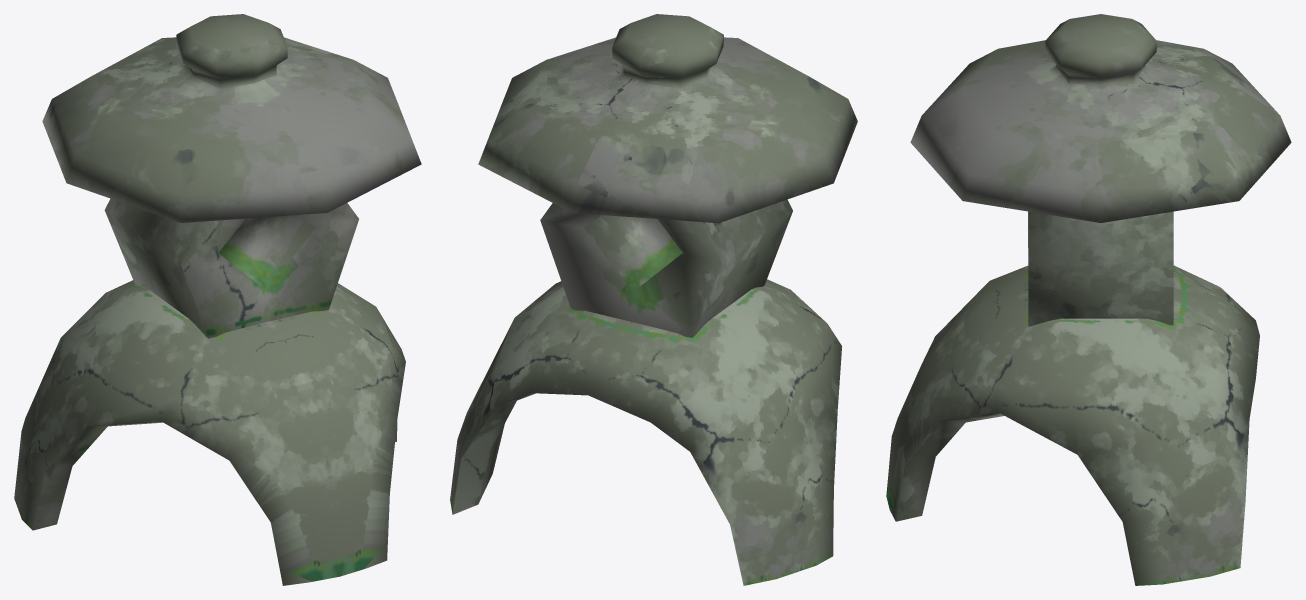
The model's file is Lantern_Low.fbx.
3 views of the same model, side by side, from view 1: azimuth 30°, elevation 25°; view 2: azimuth 150°, elevation 25°; view 3: azimuth 270°, elevation 25° (orthographic).
Visible parts, largest first — view 1: Main Lantern.Low; view 2: Main Lantern.Low; view 3: Main Lantern.Low.
Part boxes in pixels (box(x1,y1,x2,y2)): Main Lantern.Low: box(14, 14, 421, 585); Main Lantern.Low: box(450, 14, 857, 585); Main Lantern.Low: box(886, 14, 1291, 585).
Size of the model in its own units: 44.83 by 55.5 by 43.33.
